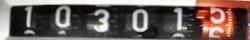digits: (131, 9, 149, 32), (54, 5, 71, 28), (93, 9, 109, 32), (174, 6, 183, 30), (210, 26, 224, 40), (24, 6, 32, 27)
